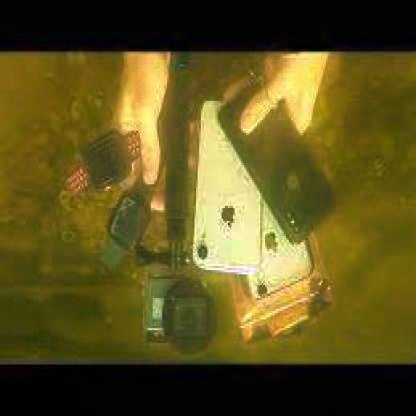cellphone: (222, 82, 334, 244), (191, 99, 265, 274)
electronics: (61, 126, 145, 204), (138, 268, 215, 352), (103, 173, 157, 276)
